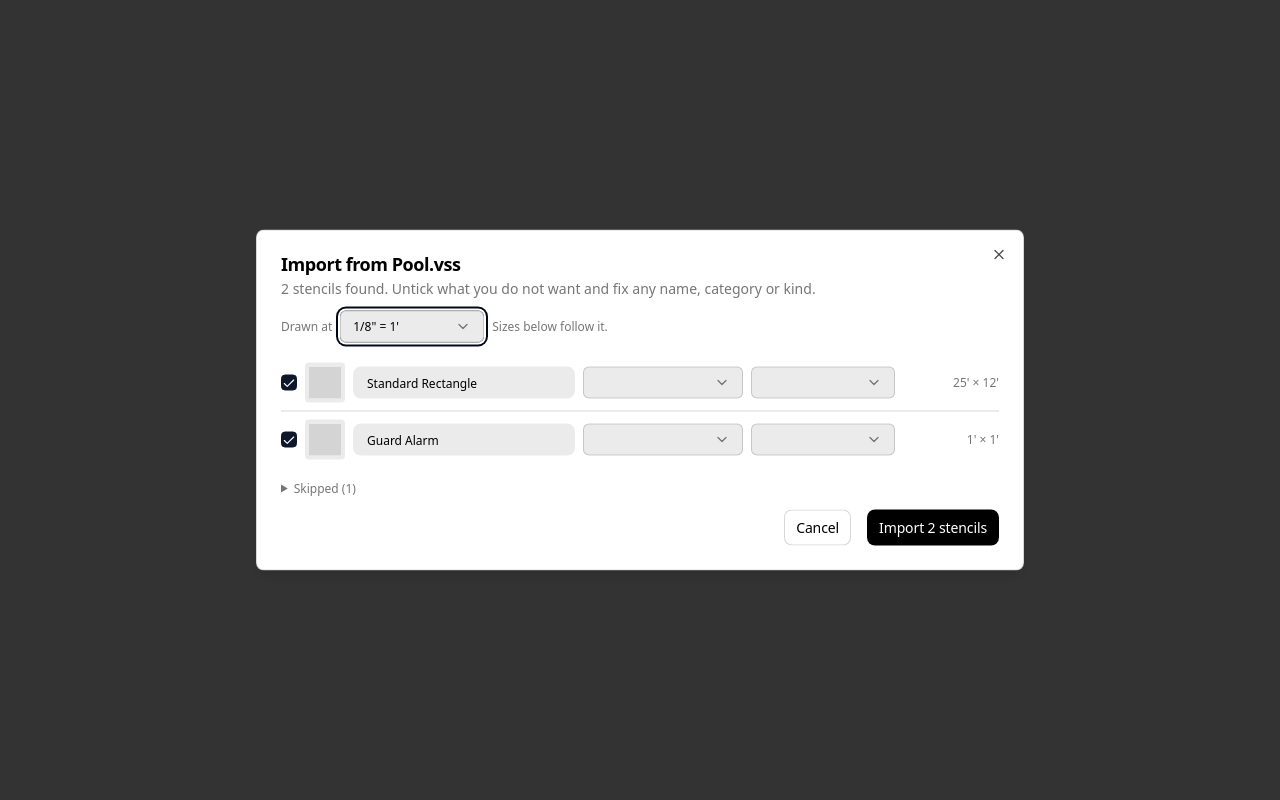
Test: VisioImportDialog › shows the command error inline and keeps the dialog open
Click the button "Import 2 stencils" at (933, 528), box [867, 510, 999, 546]
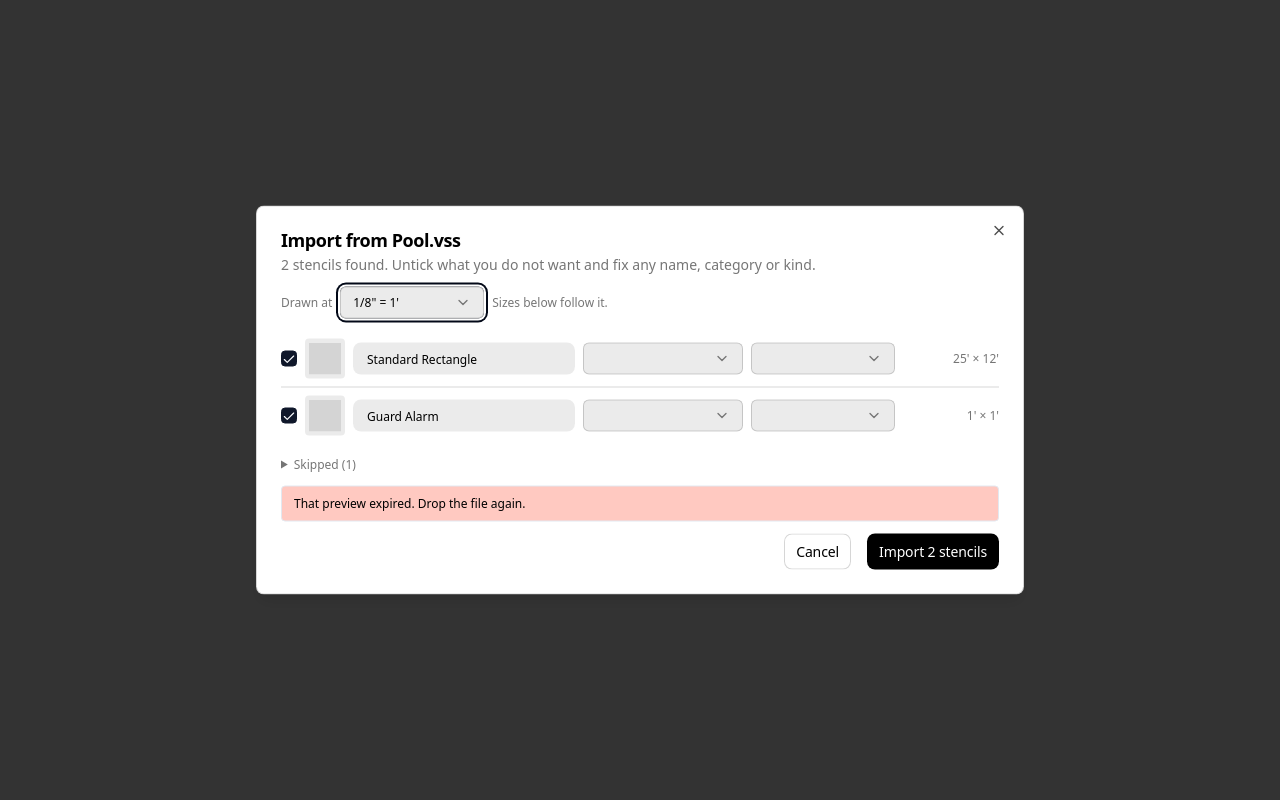
expect the text "That preview expired. Drop the file again." is shown: met, box [281, 486, 999, 522]
